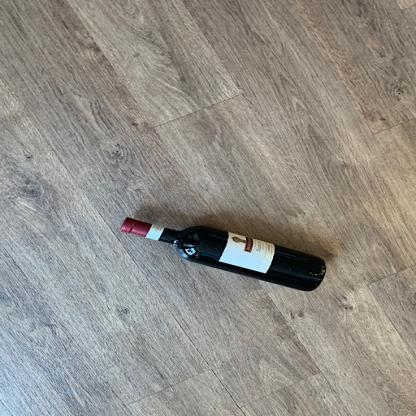trash: (116, 216, 338, 292)
